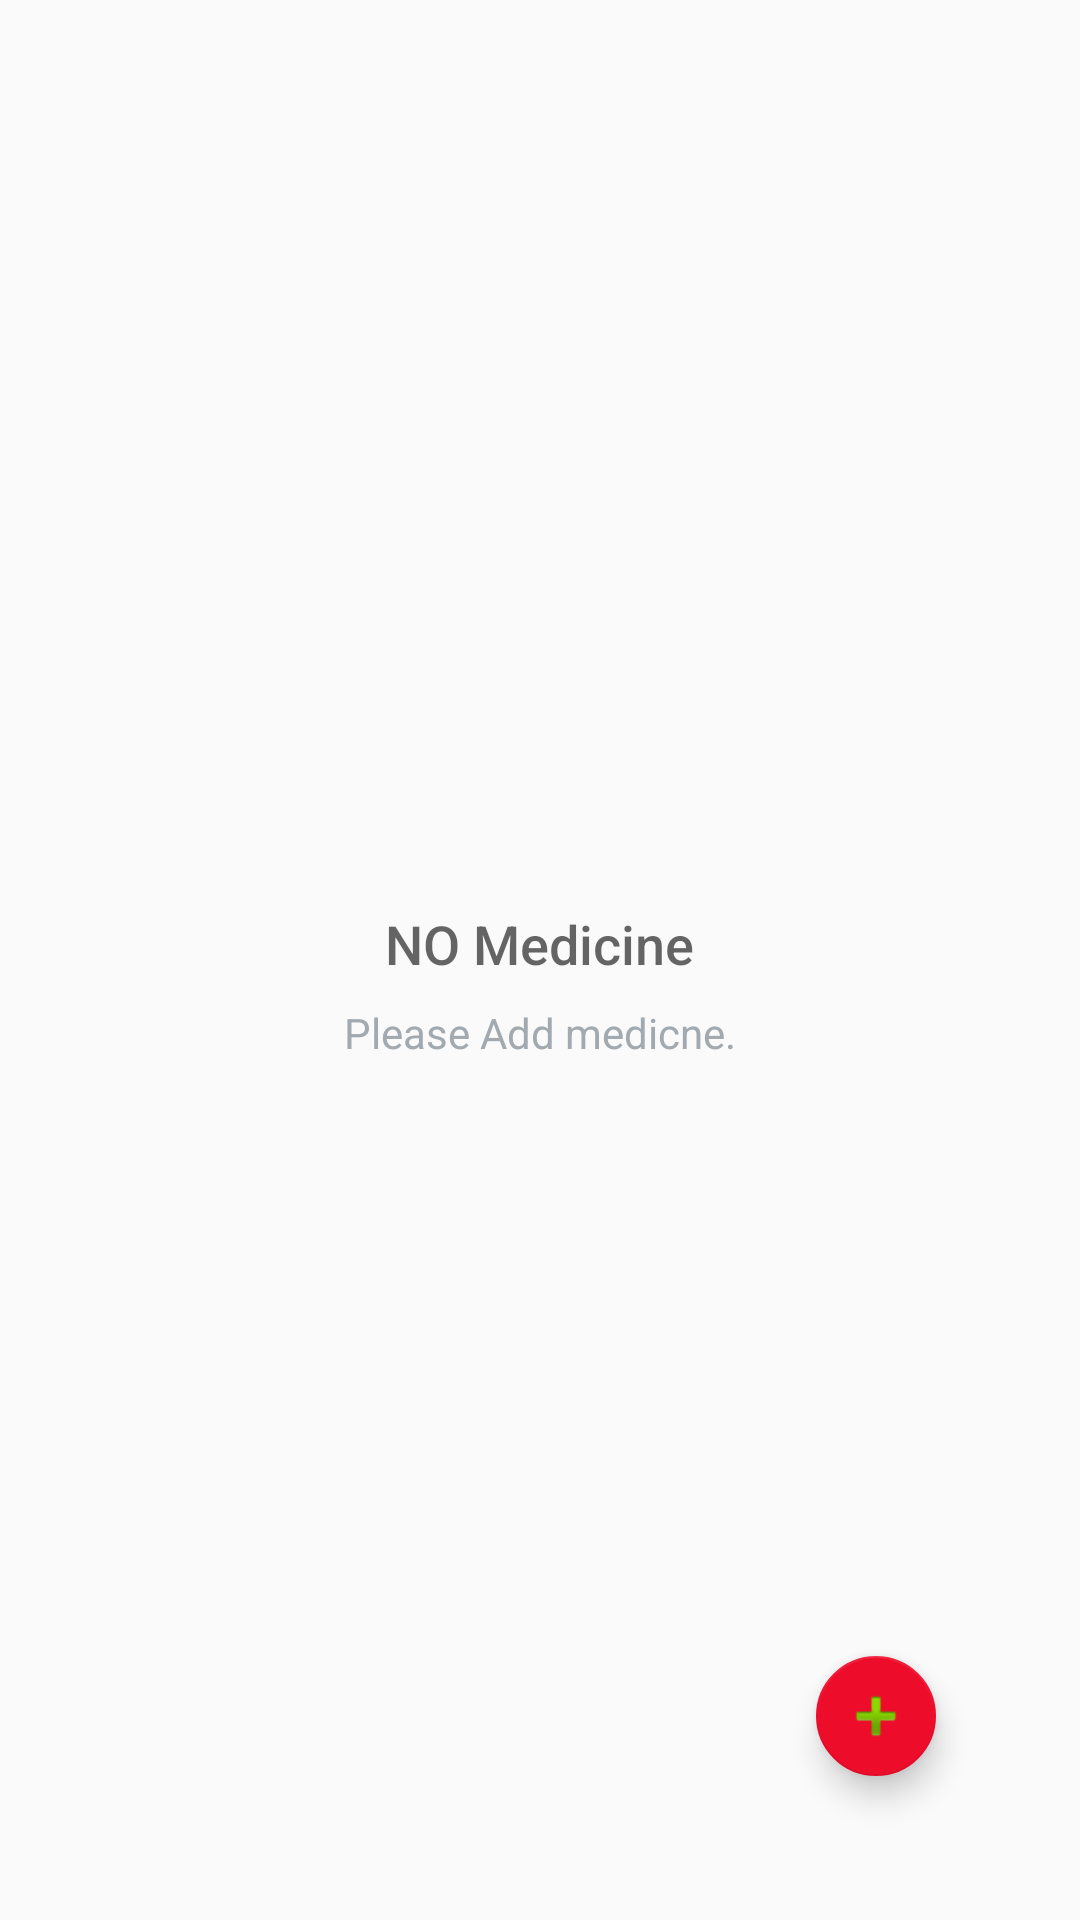

Screen size 1080px×1920px. Icon name, then its center in pixels as (x=x, y=y):
add: (x=876, y=1716)
